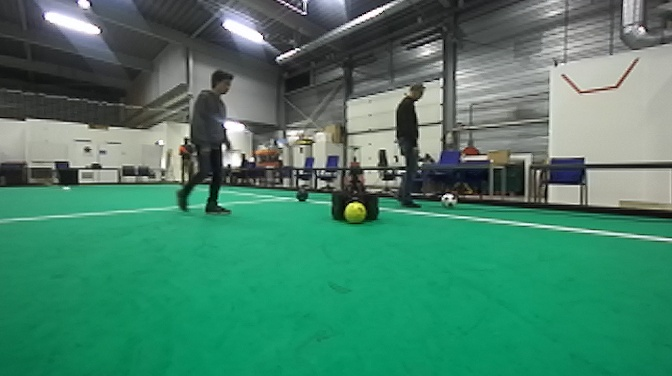ball: (343, 200, 367, 225), (440, 191, 456, 210), (294, 188, 312, 203)
human: (173, 68, 241, 218), (388, 77, 431, 210)
robot: (328, 141, 381, 223)
